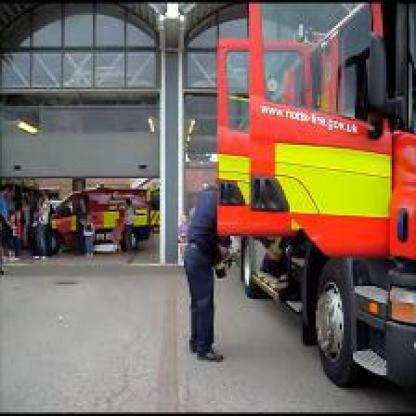other: (211, 117, 405, 254)
